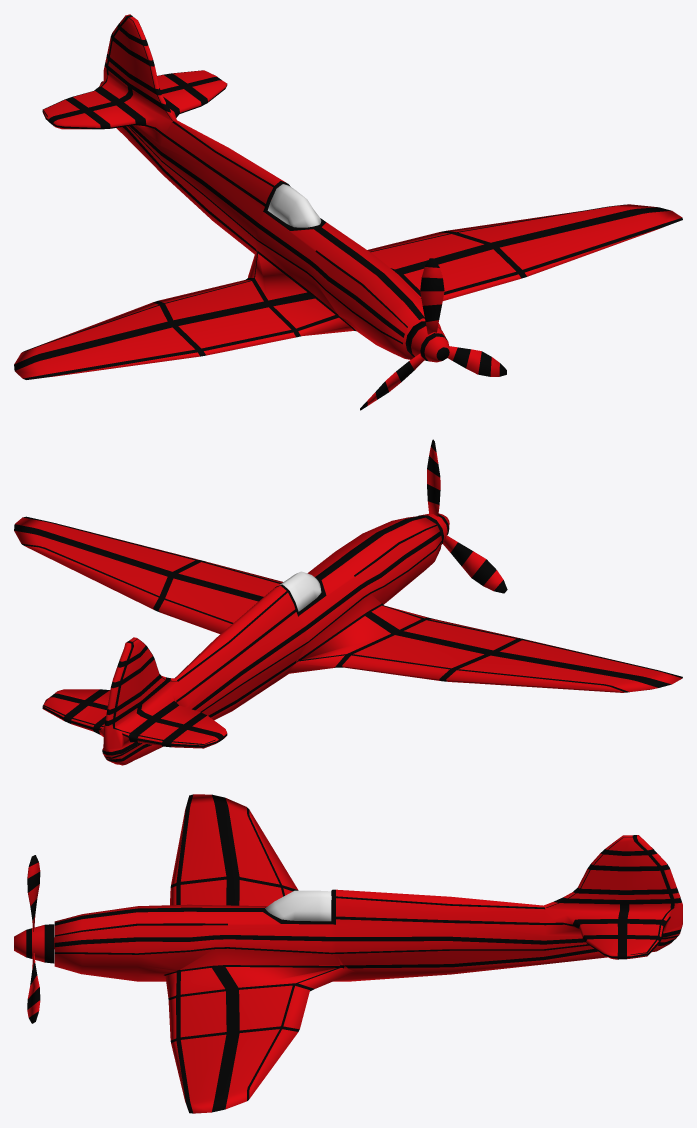
Rendered from Speedster.fbx.
3 renders of one model, top to bottom at view 1: azimuth 30°, elevation 25°; view 2: azimuth 150°, elevation 25°; view 3: azimuth 270°, elevation 25°, orthographic.
Parts seen in each view (by area): view 1: Plane, Propeller; view 2: Plane, Propeller; view 3: Plane, Propeller.
Part boxes in pixels (<box>): Plane: <box>14,14,682,379</box>; Propeller: <box>360,258,506,410</box>; Plane: <box>14,515,682,765</box>; Propeller: <box>418,439,507,593</box>; Plane: <box>54,794,682,1113</box>; Propeller: <box>14,855,54,1023</box>.
Bounding box in the file's own units: 359 × 80.72 × 318.
